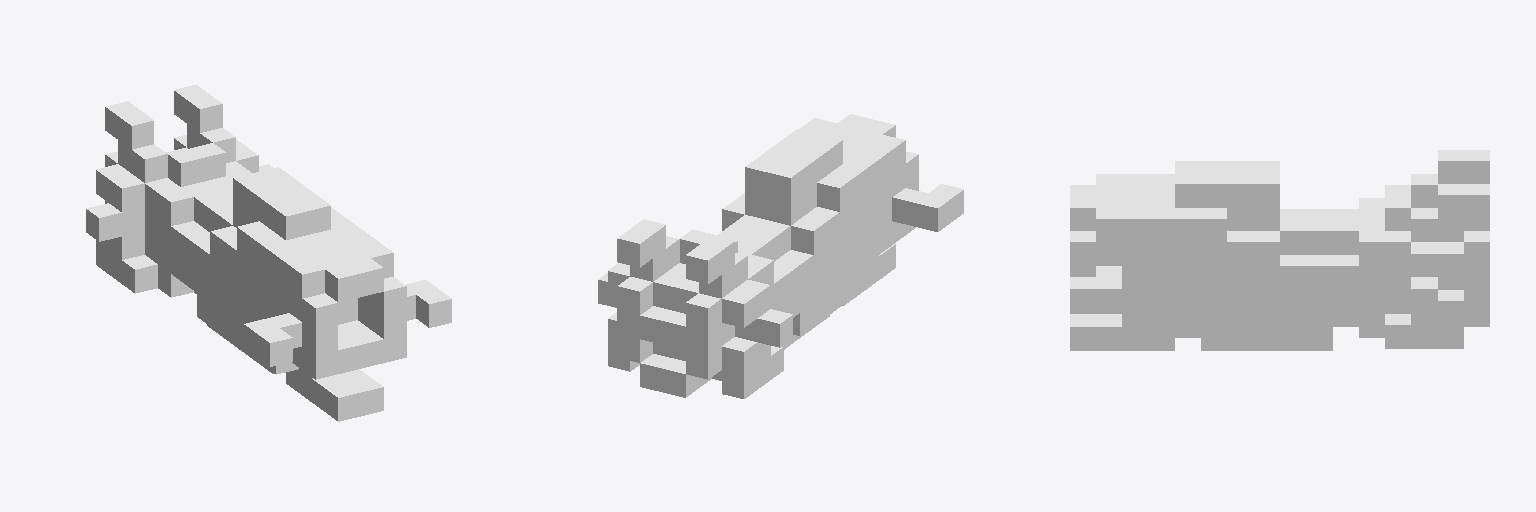
File: Extra-0-MicroRecon_Body.obj
The picture shows the model from 3 angles: view 1: azimuth 30°, elevation 25°; view 2: azimuth 150°, elevation 25°; view 3: azimuth 270°, elevation 25°; orthographic projection.
Parts seen in each view (by area): view 1: MicroRecon_Body; view 2: MicroRecon_Body; view 3: MicroRecon_Body.
Boxes of the visible parts, x1,y1,x2,y2 form: MicroRecon_Body: [86, 85, 451, 421]; MicroRecon_Body: [598, 114, 963, 398]; MicroRecon_Body: [1070, 150, 1489, 350].
Size of the model in its own units: 0.8 by 0.7 by 1.6.